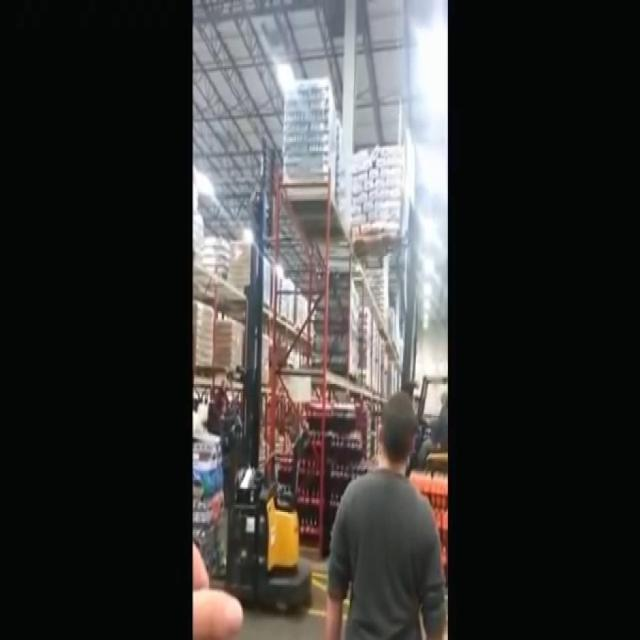forklift: (222, 398, 318, 614), (409, 362, 452, 506)
person: (315, 382, 451, 640), (418, 379, 448, 478)
